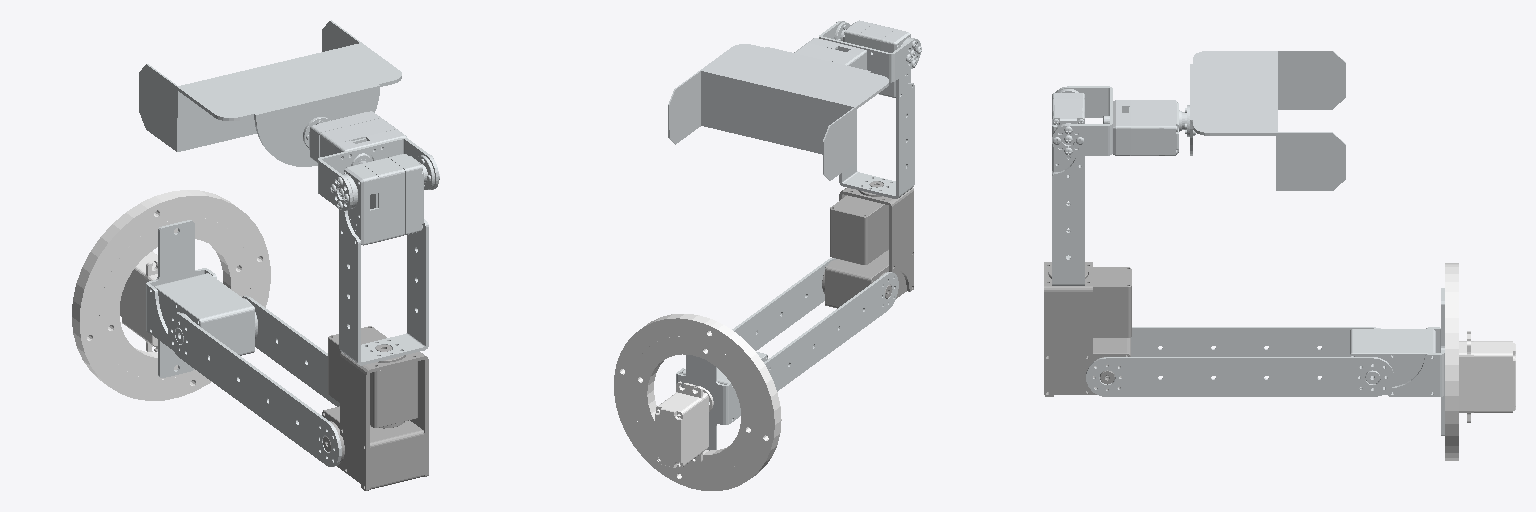
URDF robot description (robothand):
<robot
  name="robothand">
  <link
    name="base_link">
    <inertial>
      <origin
        xyz="-2.8291E-10 -0.0030051 0.0033287"
        rpy="0 0 0" />
      <mass
        value="0.093065" />
      <inertia
        ixx="9.2641E-05"
        ixy="-4.8786E-14"
        ixz="6.1259E-13"
        iyy="8.7739E-05"
        iyz="-3.7321E-06"
        izz="0.0001596" />
    </inertial>
    <visual>
      <origin
        xyz="0 0 0"
        rpy="0 0 0" />
      <geometry>
        <mesh
          filename="package://robothand/meshes/base_link.STL" />
      </geometry>
      <material
        name="">
        <color
          rgba="1 1 1 1" />
      </material>
    </visual>
    <collision>
      <origin
        xyz="0 0 0"
        rpy="0 0 0" />
      <geometry>
        <mesh
          filename="package://robothand/meshes/base_link.STL" />
      </geometry>
    </collision>
  </link>
  <link
    name="Link_1">
    <inertial>
      <origin
        xyz="-2.1227E-05 0.00026321 0.024847"
        rpy="0 0 0" />
      <mass
        value="0.070045" />
      <inertia
        ixx="3.3013E-05"
        ixy="-3.8465E-10"
        ixz="2.7774E-08"
        iyy="3.0843E-05"
        iyz="5.4237E-08"
        izz="1.9291E-05" />
    </inertial>
    <visual>
      <origin
        xyz="0 0 0"
        rpy="0 0 0" />
      <geometry>
        <mesh
          filename="package://robothand/meshes/Link_1.STL" />
      </geometry>
      <material
        name="">
        <color
          rgba="0.89804 0.91765 0.92941 1" />
      </material>
    </visual>
    <collision>
      <origin
        xyz="0 0 0"
        rpy="0 0 0" />
      <geometry>
        <mesh
          filename="package://robothand/meshes/Link_1.STL" />
      </geometry>
    </collision>
  </link>
  <joint
    name="Joint_1"
    type="revolute">
    <origin
      xyz="0 -0.01345 0"
      rpy="-1.5708 -1.2246E-16 3.1416" />
    <parent
      link="base_link" />
    <child
      link="Link_1" />
    <axis
      xyz="0 0 1" />
    <limit
      lower="-3.66"
      upper="1.57"
      effort="0"
      velocity="0" />
  </joint>
  <link
    name="Link_2">
    <inertial>
      <origin
        xyz="-2.8679E-17 0.08 -6.8444E-16"
        rpy="0 0 0" />
      <mass
        value="0.047685" />
      <inertia
        ixx="0.00014355"
        ixy="2.4122E-20"
        ixz="-6.0325E-22"
        iyy="2.4469E-05"
        iyz="-1.5233E-20"
        izz="0.00012452" />
    </inertial>
    <visual>
      <origin
        xyz="0 0 0"
        rpy="0 0 0" />
      <geometry>
        <mesh
          filename="package://robothand/meshes/Link_2.STL" />
      </geometry>
      <material
        name="">
        <color
          rgba="0.89804 0.91765 0.92941 1" />
      </material>
    </visual>
    <collision>
      <origin
        xyz="0 0 0"
        rpy="0 0 0" />
      <geometry>
        <mesh
          filename="package://robothand/meshes/Link_2.STL" />
      </geometry>
    </collision>
  </link>
  <joint
    name="Joint_2"
    type="revolute">
    <origin
      xyz="0 0 0.043237"
      rpy="1.5708 0 -1.5708" />
    <parent
      link="Link_1" />
    <child
      link="Link_2" />
    <axis
      xyz="0 0 1" />
    <limit
      lower="-2.09"
      upper="2.09"
      effort="0"
      velocity="0" />
  </joint>
  <link
    name="Link_3">
    <inertial>
      <origin
        xyz="-0.013845 -1.1878E-05 -0.021839"
        rpy="0 0 0" />
      <mass
        value="0.12509" />
      <inertia
        ixx="7.5897E-05"
        ixy="2.1023E-08"
        ixz="-2.6488E-06"
        iyy="8.7737E-05"
        iyz="3.2504E-08"
        izz="4.3154E-05" />
    </inertial>
    <visual>
      <origin
        xyz="0 0 0"
        rpy="0 0 0" />
      <geometry>
        <mesh
          filename="package://robothand/meshes/Link_3.STL" />
      </geometry>
      <material
        name="">
        <color
          rgba="0.75294 0.75294 0.75294 1" />
      </material>
    </visual>
    <collision>
      <origin
        xyz="0 0 0"
        rpy="0 0 0" />
      <geometry>
        <mesh
          filename="package://robothand/meshes/Link_3.STL" />
      </geometry>
    </collision>
  </link>
  <joint
    name="Joint_3"
    type="revolute">
    <origin
      xyz="0 0.16 0"
      rpy="1.5708 3.836E-15 -1.5708" />
    <parent
      link="Link_2" />
    <child
      link="Link_3" />
    <axis
      xyz="0 1 0" />
    <limit
      lower="-1.57"
      upper="4.71"
      effort="0"
      velocity="0" />
  </joint>
  <link
    name="Link_4">
    <inertial>
      <origin
        xyz="0.0014025 0.00013173 0.067699"
        rpy="0 0 0" />
      <mass
        value="0.049422" />
      <inertia
        ixx="6.0963E-05"
        ixy="6.4332E-09"
        ixz="-1.6909E-06"
        iyy="7.1988E-05"
        iyz="-9.7461E-08"
        izz="1.4343E-05" />
    </inertial>
    <visual>
      <origin
        xyz="0 0 0"
        rpy="0 0 0" />
      <geometry>
        <mesh
          filename="package://robothand/meshes/Link_4.STL" />
      </geometry>
      <material
        name="">
        <color
          rgba="0.89804 0.91765 0.92941 1" />
      </material>
    </visual>
    <collision>
      <origin
        xyz="0 0 0"
        rpy="0 0 0" />
      <geometry>
        <mesh
          filename="package://robothand/meshes/Link_4.STL" />
      </geometry>
    </collision>
  </link>
  <joint
    name="Joint_4"
    type="revolute">
    <origin
      xyz="-0.0235 0 -0.059845"
      rpy="-3.1416 -6.123E-17 1.5708" />
    <parent
      link="Link_3" />
    <child
      link="Link_4" />
    <axis
      xyz="0 0 1" />
    <limit
      lower="-3.14"
      upper="3.14"
      effort="0"
      velocity="0" />
  </joint>
  <link
    name="Link_5">
    <inertial>
      <origin
        xyz="1.2563E-06 -0.007364 -0.040667"
        rpy="0 0 0" />
      <mass
        value="0.038481" />
      <inertia
        ixx="2.3971E-05"
        ixy="1.5541E-09"
        ixz="-2.207E-09"
        iyy="1.4956E-05"
        iyz="-2.1443E-06"
        izz="1.1616E-05" />
    </inertial>
    <visual>
      <origin
        xyz="0 0 0"
        rpy="0 0 0" />
      <geometry>
        <mesh
          filename="package://robothand/meshes/Link_5.STL" />
      </geometry>
      <material
        name="">
        <color
          rgba="0.89804 0.91765 0.92941 1" />
      </material>
    </visual>
    <collision>
      <origin
        xyz="0 0 0"
        rpy="0 0 0" />
      <geometry>
        <mesh
          filename="package://robothand/meshes/Link_5.STL" />
      </geometry>
    </collision>
  </link>
  <joint
    name="Joint_5"
    type="revolute">
    <origin
      xyz="0 0 0.101"
      rpy="1.5708 -1.5708 0" />
    <parent
      link="Link_4" />
    <child
      link="Link_5" />
    <axis
      xyz="0 -1 0" />
    <limit
      lower="-1.57"
      upper="4.71"
      effort="0"
      velocity="0" />
  </joint>
  <link
    name="Link_6">
    <inertial>
      <origin
        xyz="-7.8399E-16 0.019624 -0.014036"
        rpy="0 0 0" />
      <mass
        value="0.043361" />
      <inertia
        ixx="1.595E-05"
        ixy="-9.5013E-20"
        ixz="1.7669E-20"
        iyy="4.2506E-05"
        iyz="3.6047E-06"
        izz="5.1463E-05" />
    </inertial>
    <visual>
      <origin
        xyz="0 0 0"
        rpy="0 0 0" />
      <geometry>
        <mesh
          filename="package://robothand/meshes/Link_6.STL" />
      </geometry>
      <material
        name="">
        <color
          rgba="0.89804 0.91765 0.92941 1" />
      </material>
    </visual>
    <collision>
      <origin
        xyz="0 0 0"
        rpy="0 0 0" />
      <geometry>
        <mesh
          filename="package://robothand/meshes/Link_6.STL" />
      </geometry>
    </collision>
  </link>
  <joint
    name="Joint_6"
    type="revolute">
    <origin
      xyz="0 -0.0008 -0.073245"
      rpy="-1.5708 0 1.5638" />
    <parent
      link="Link_5" />
    <child
      link="Link_6" />
    <axis
      xyz="0 -1 0" />
    <limit
      lower="-3.14"
      upper="3.14"
      effort="0"
      velocity="0" />
  </joint>
  <link
    name="gripper">
    <inertial>
      <origin
        xyz="-2.0783E-15 6.3838E-16 -0.012811"
        rpy="0 0 0" />
      <mass
        value="0.020352" />
      <inertia
        ixx="5.6226E-06"
        ixy="5.5685E-19"
        ixz="5.3457E-19"
        iyy="4.3897E-05"
        iyz="-1.2053E-19"
        izz="4.3323E-05" />
    </inertial>
    <visual>
      <origin
        xyz="0 0 0"
        rpy="0 0 0" />
      <geometry>
        <mesh
          filename="package://robothand/meshes/gripper.STL" />
      </geometry>
      <material
        name="">
        <color
          rgba="0.89804 0.91765 0.92941 1" />
      </material>
    </visual>
    <collision>
      <origin
        xyz="0 0 0"
        rpy="0 0 0" />
      <geometry>
        <mesh
          filename="package://robothand/meshes/gripper.STL" />
      </geometry>
    </collision>
  </link>
  <joint
    name="gripper"
    type="fixed">
    <origin
      xyz="0 0.0735 0"
      rpy="1.5708 -3.2613E-16 3.1416" />
    <parent
      link="Link_6" />
    <child
      link="gripper" />
    <axis
      xyz="0 0 0" />
  </joint>
</robot>

--- Render facts (derived) ---
Views: 3 orthographic renders of the robot side by side, from view 1: azimuth 30°, elevation 25°; view 2: azimuth 150°, elevation 25°; view 3: azimuth 270°, elevation 25°.
Robot: robothand — 8 links, 7 joints (6 revolute, 1 fixed); root link base_link; default pose: all joints at 0.
Links seen in each view (by area): view 1: base_link, Link_4, Link_6, Link_3, Link_2, Link_1, gripper, Link_5; view 2: base_link, gripper, Link_3, Link_2, Link_6, Link_4, Link_5, Link_1; view 3: Link_2, Link_3, gripper, Link_6, base_link, Link_5, Link_4, Link_1.
Link boxes in pixels (x1,y1,x2,y2): base_link: [72, 190, 270, 400]; Link_4: [330, 154, 439, 365]; Link_6: [178, 43, 401, 166]; Link_3: [322, 326, 428, 490]; Link_2: [168, 295, 341, 466]; Link_1: [146, 220, 257, 377]; gripper: [139, 20, 361, 151]; Link_5: [303, 111, 438, 210]; base_link: [614, 314, 781, 490]; gripper: [668, 70, 856, 180]; Link_3: [822, 181, 913, 308]; Link_2: [732, 258, 898, 391]; Link_6: [701, 44, 888, 109]; Link_4: [834, 20, 921, 198]; Link_5: [794, 21, 920, 82]; Link_1: [676, 352, 767, 450]; Link_2: [1086, 327, 1393, 396]; Link_3: [1044, 262, 1131, 396]; gripper: [1276, 51, 1345, 190]; Link_6: [1190, 51, 1275, 155]; base_link: [1445, 263, 1515, 460]; Link_5: [1052, 86, 1195, 155]; Link_4: [1052, 89, 1084, 285]; Link_1: [1350, 288, 1444, 435].
Size in the robot's own frame: 0.1198 by 0.284 by 0.2407 metres.
Meshes: 8 distinct files referenced, 8 mesh visuals loaded (8 binary STL).